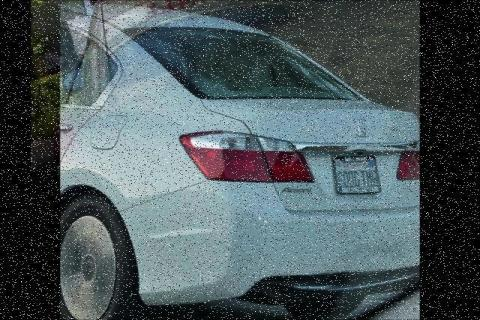LicensePlate: (329, 150, 387, 198)
